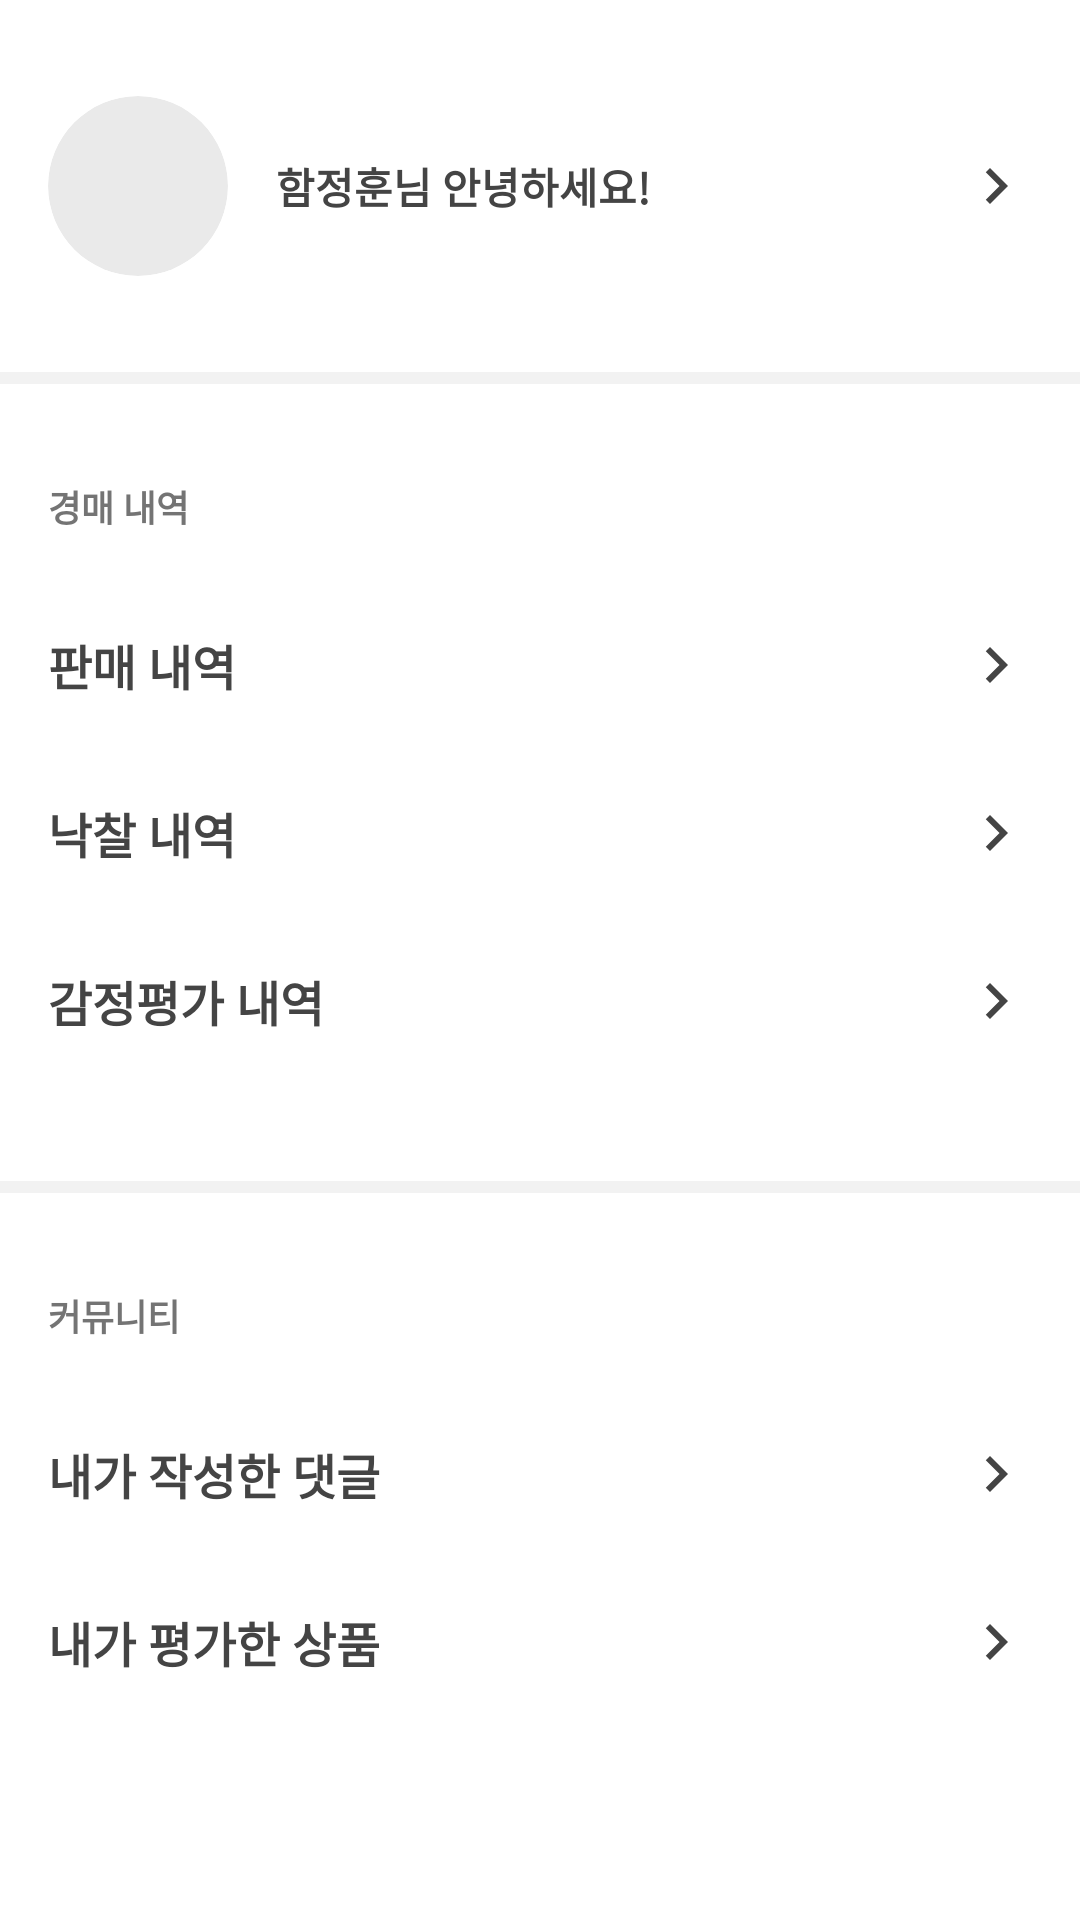

Icons on this 1080×1920 Android screen, each with its box as (x1, y1, x2, y2):
navigate next: (986, 168, 1008, 204), (986, 647, 1008, 683), (986, 815, 1008, 851), (986, 983, 1008, 1019), (986, 1456, 1008, 1492), (986, 1624, 1008, 1660)
